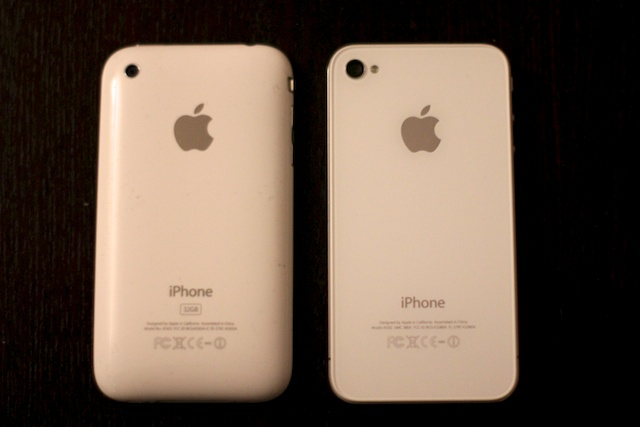apple: (165, 97, 232, 157), (394, 97, 444, 156)
